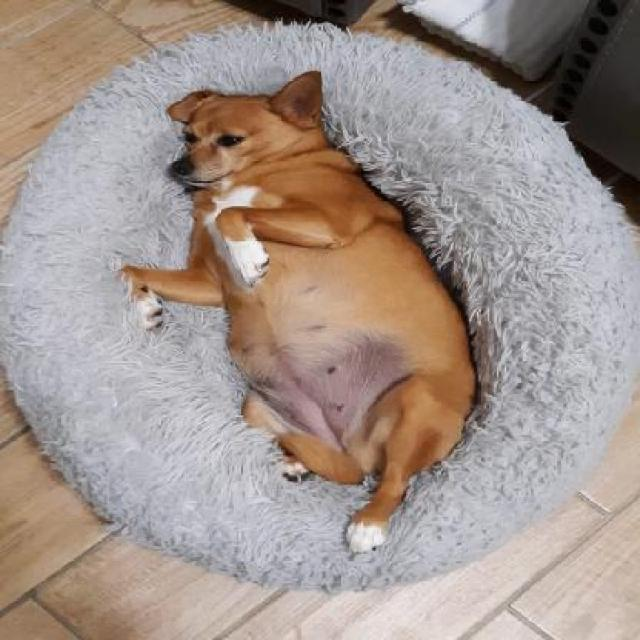Dog: (114, 69, 478, 560)
